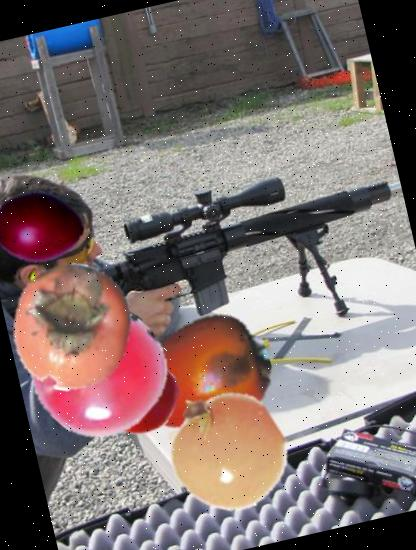Blueberry: (70, 291, 176, 398)
Kaki: (116, 288, 284, 456), (0, 250, 149, 404)
Physalis: (150, 373, 302, 525)
Redcurrant: (21, 293, 179, 451)
Tamarillo: (0, 168, 93, 283)
Tomato: (90, 348, 186, 444)
